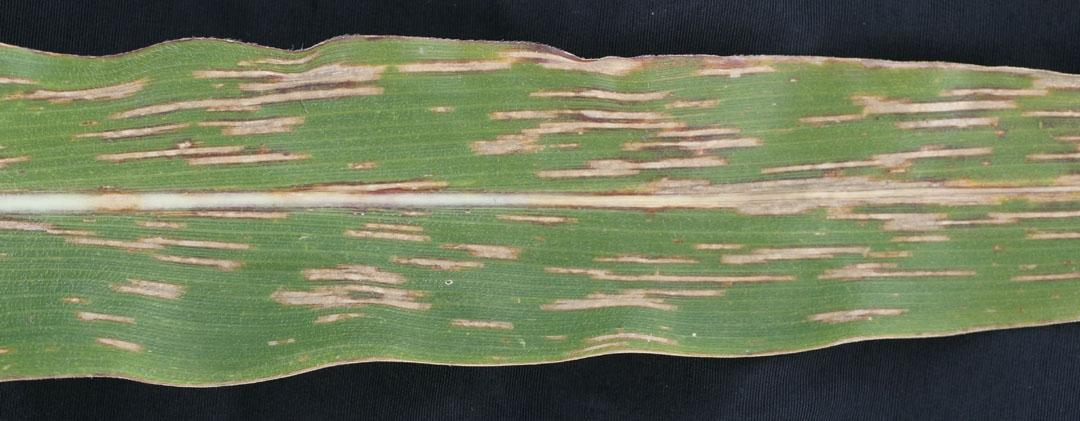Corn_Blight: (260, 254, 531, 342), (494, 102, 773, 169), (542, 39, 966, 79), (796, 160, 1080, 216), (70, 179, 451, 211), (184, 53, 531, 88), (811, 96, 1077, 141), (83, 123, 330, 168), (13, 64, 160, 107), (593, 187, 787, 212), (423, 105, 480, 115)
